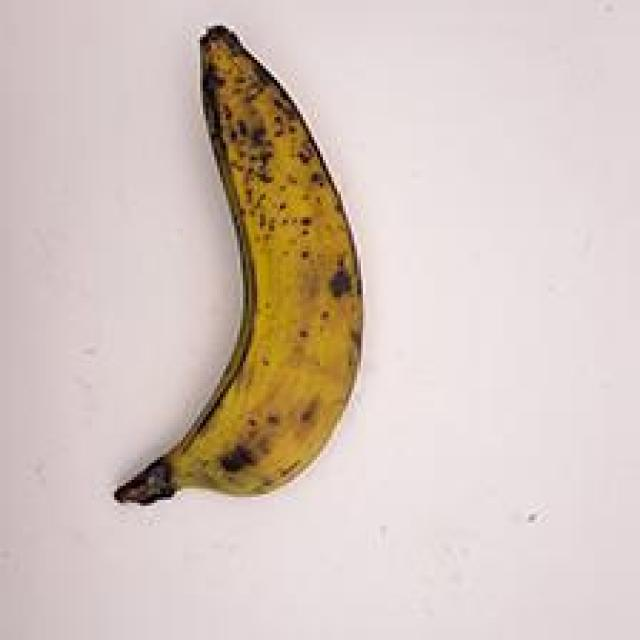Overripe: (80, 11, 409, 532)
